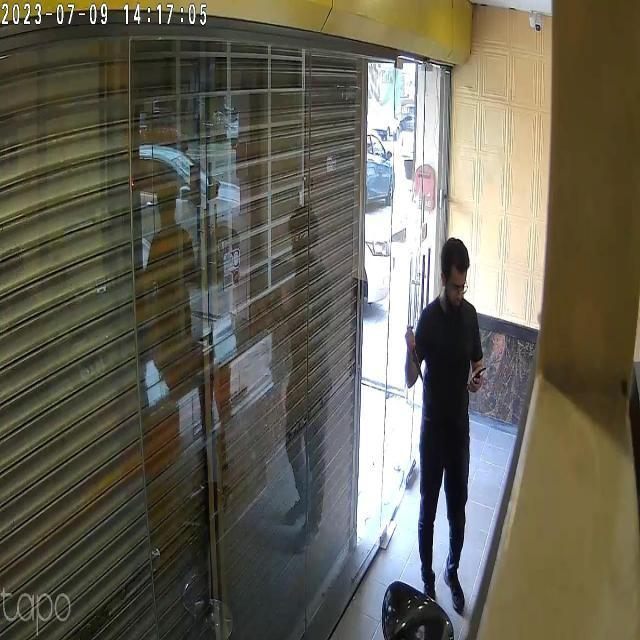Knife: (401, 322, 432, 395)
